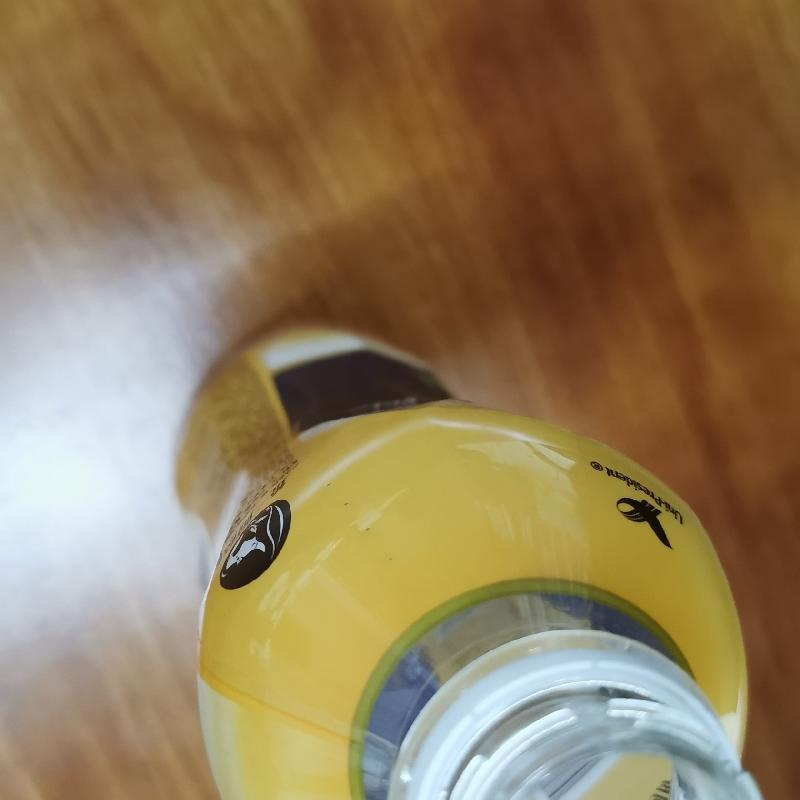bottles: (148, 312, 773, 800)
